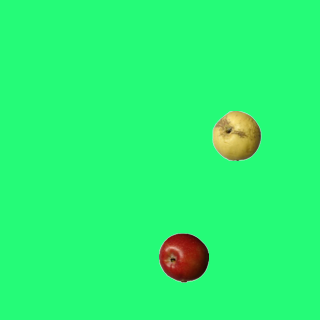Apple Braeburn: (158, 232, 208, 282)
Apple Golden 1: (211, 110, 261, 160)
